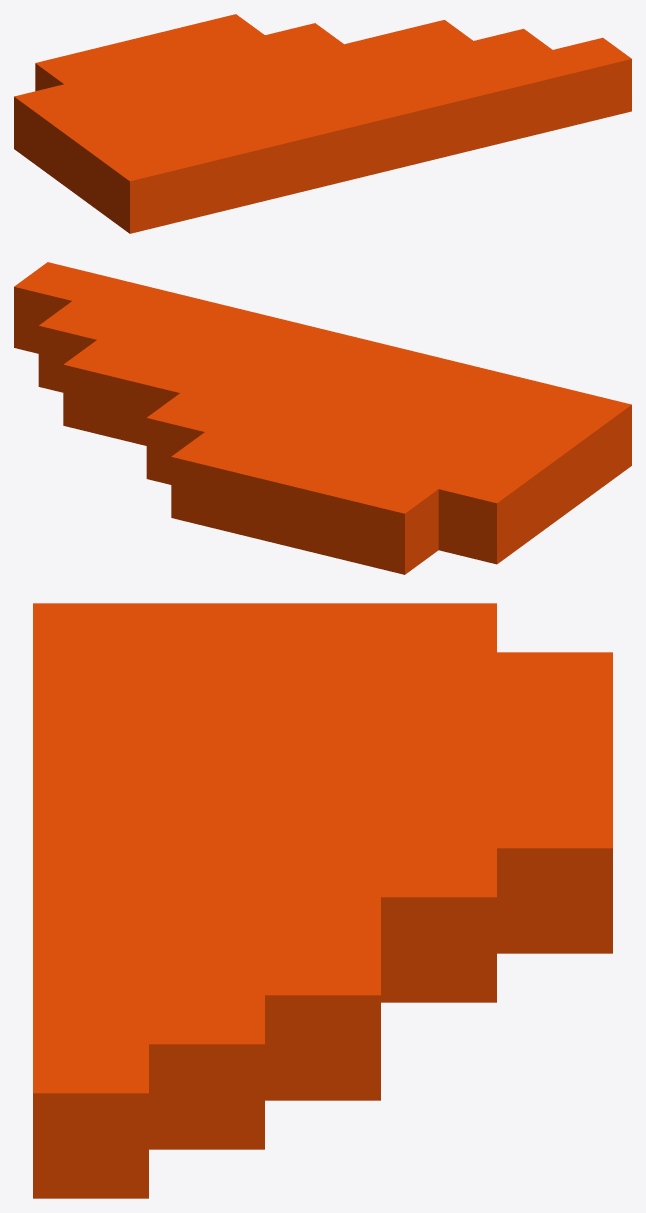
Rendered from RightLava.obj.
3 renders of one model, top to bottom at view 1: azimuth 30°, elevation 25°; view 2: azimuth 150°, elevation 25°; view 3: azimuth 270°, elevation 25°, orthographic. The views are drawn at different scales.
Bounding box in the file's own units: 1 × 0.1 × 0.5.
Materials: 1 (1 with a texture image).
